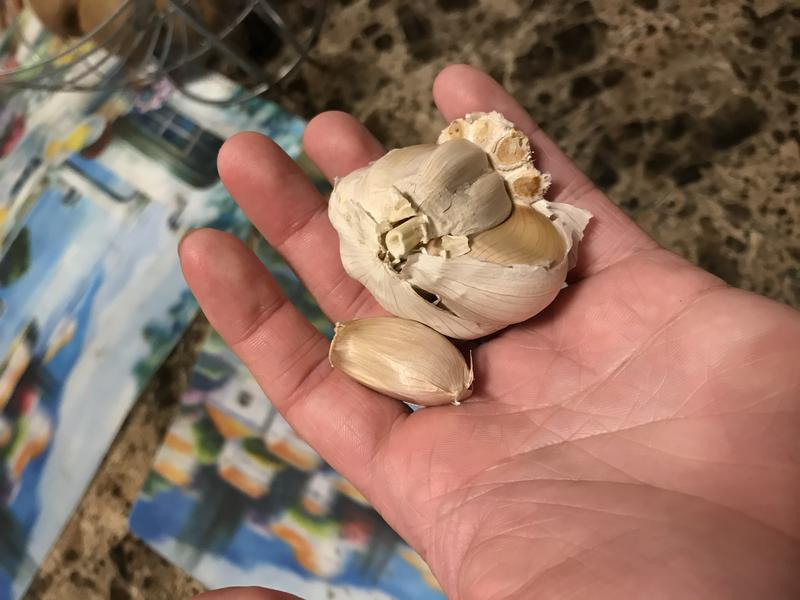garlic: (296, 98, 596, 418)
